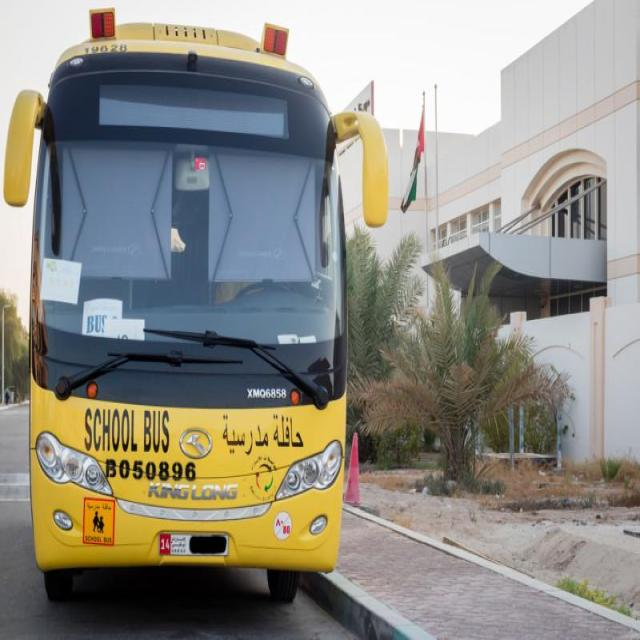bus: (6, 10, 390, 608)
